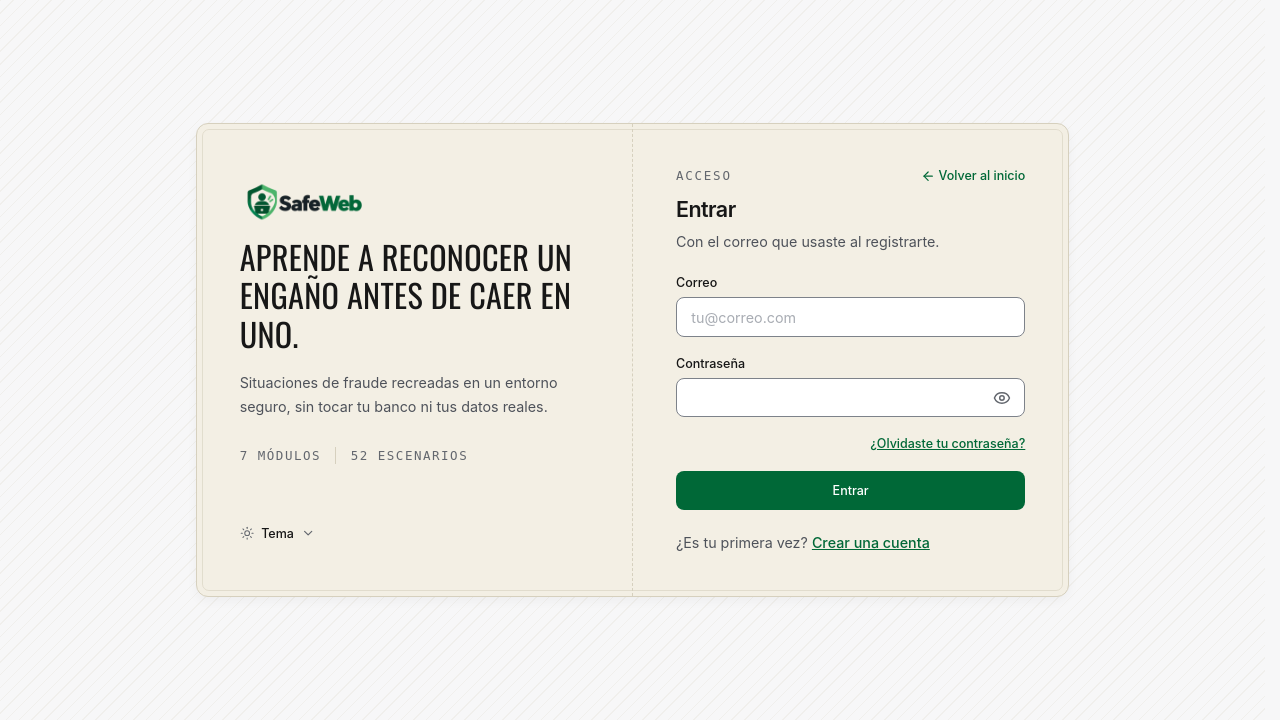
Test: Login › muestra el error de formato del correo debajo del campo al escribir
Type "correo-invalido" into the field labelled "Correo". click: coordinates (851, 317)
box: [676, 297, 1025, 337]
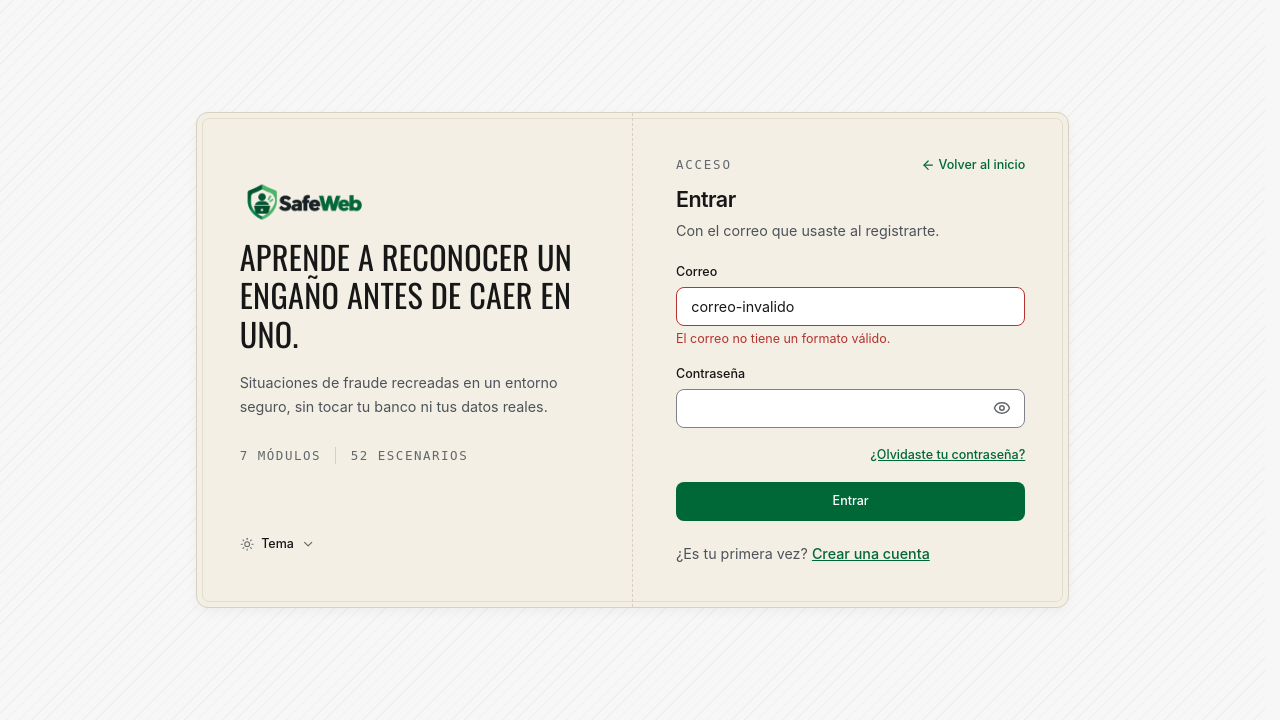
Now the text "El correo no tiene un formato válido." is shown, box [676, 331, 890, 346]
